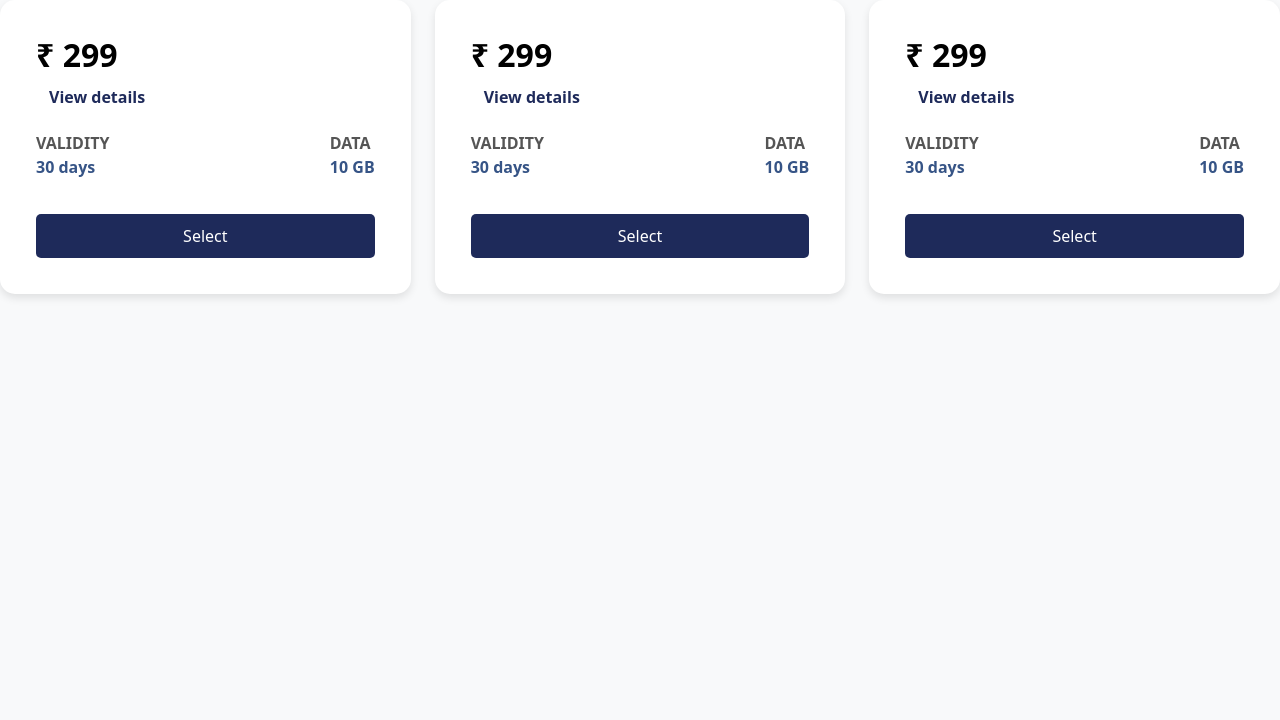
Scenario: CardGrid Component › opens modal and displays plan details when "View details" is clicked
Click the 1st button "View details": {"x": 97, "y": 97} [36,78,158,116]
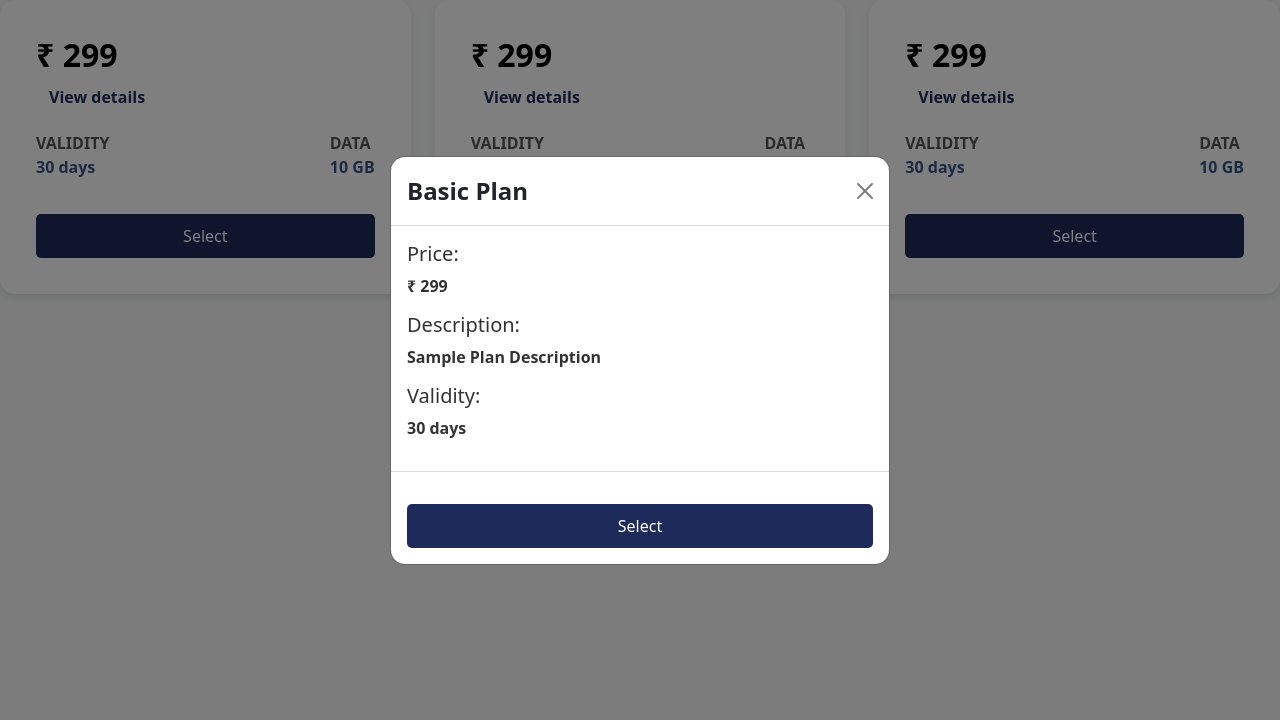
Now the text "Basic Plan" is shown, box [407,172,528,208]
Now the heading "Price:" is shown, box [407,240,459,266]
Now the heading "Description:" is shown, box [407,310,520,338]
